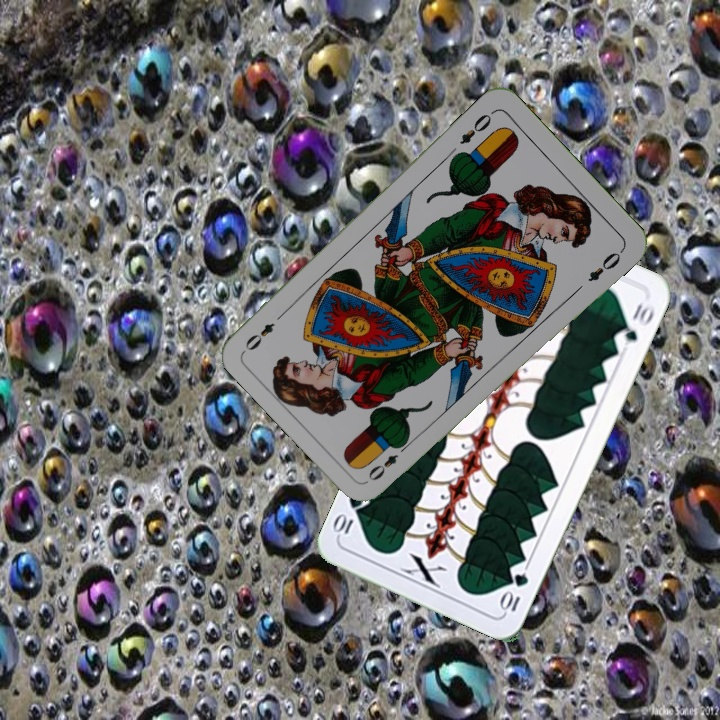EO: (364, 437, 412, 484), (455, 106, 497, 147)
G10: (497, 569, 531, 617)
